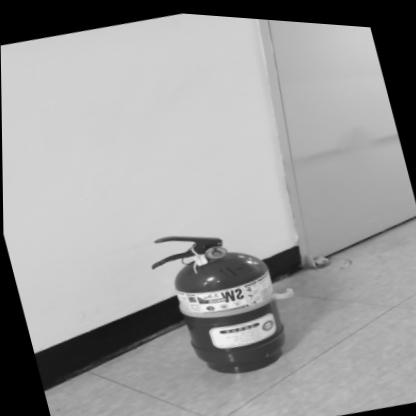FE: (145, 210, 293, 387)
